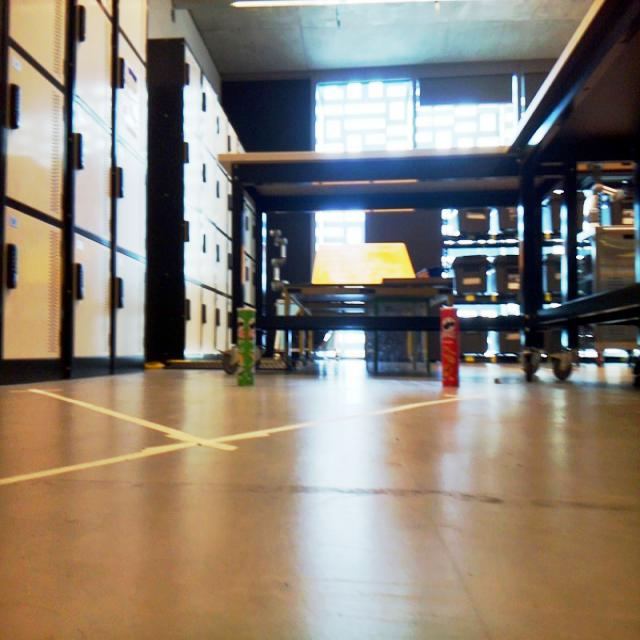greenpringles: (233, 296, 269, 394)
redpringles: (431, 308, 472, 401)
